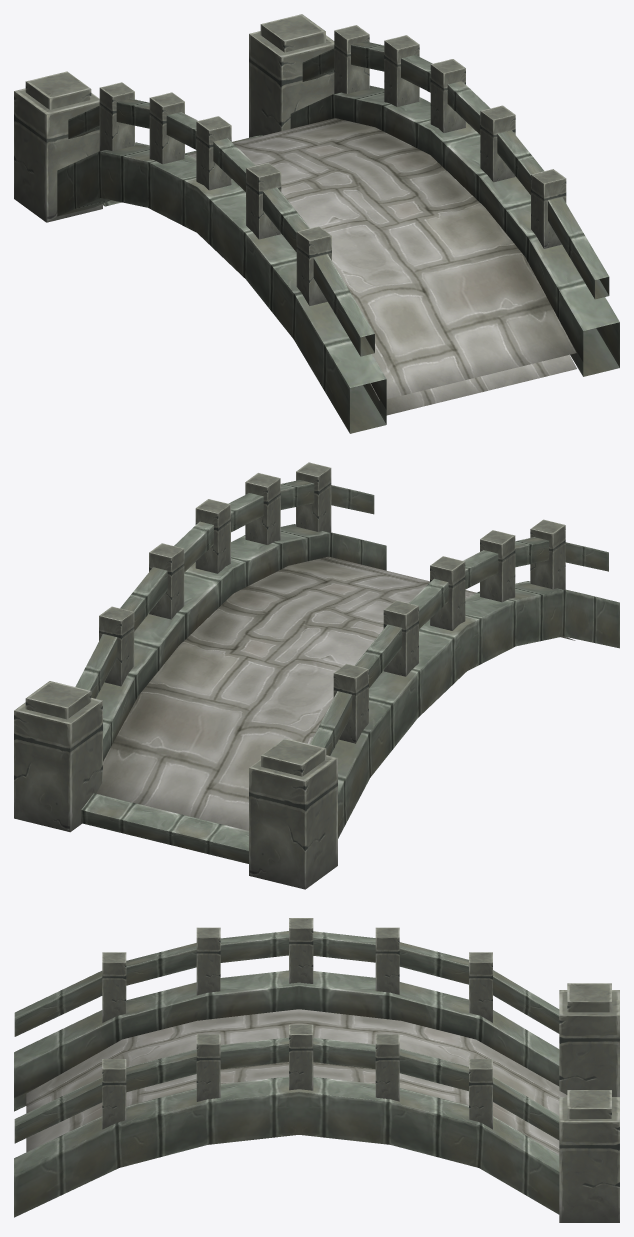
The model's file is bridge_04a_tile_08.fbx.
3 views of the same model, one above another, from view 1: azimuth 30°, elevation 25°; view 2: azimuth 150°, elevation 25°; view 3: azimuth 270°, elevation 25° (orthographic). The views are drawn at different scales.
Parts seen in each view (by area): view 1: bridge_04a_tile_08; view 2: bridge_04a_tile_08; view 3: bridge_04a_tile_08.
Part boxes in pixels (x1,y1,x2,y2): bridge_04a_tile_08: (14, 14, 619, 433); bridge_04a_tile_08: (14, 462, 619, 889); bridge_04a_tile_08: (14, 918, 619, 1222).
Size of the model in its own units: 3.04 by 1.93 by 5.89.
